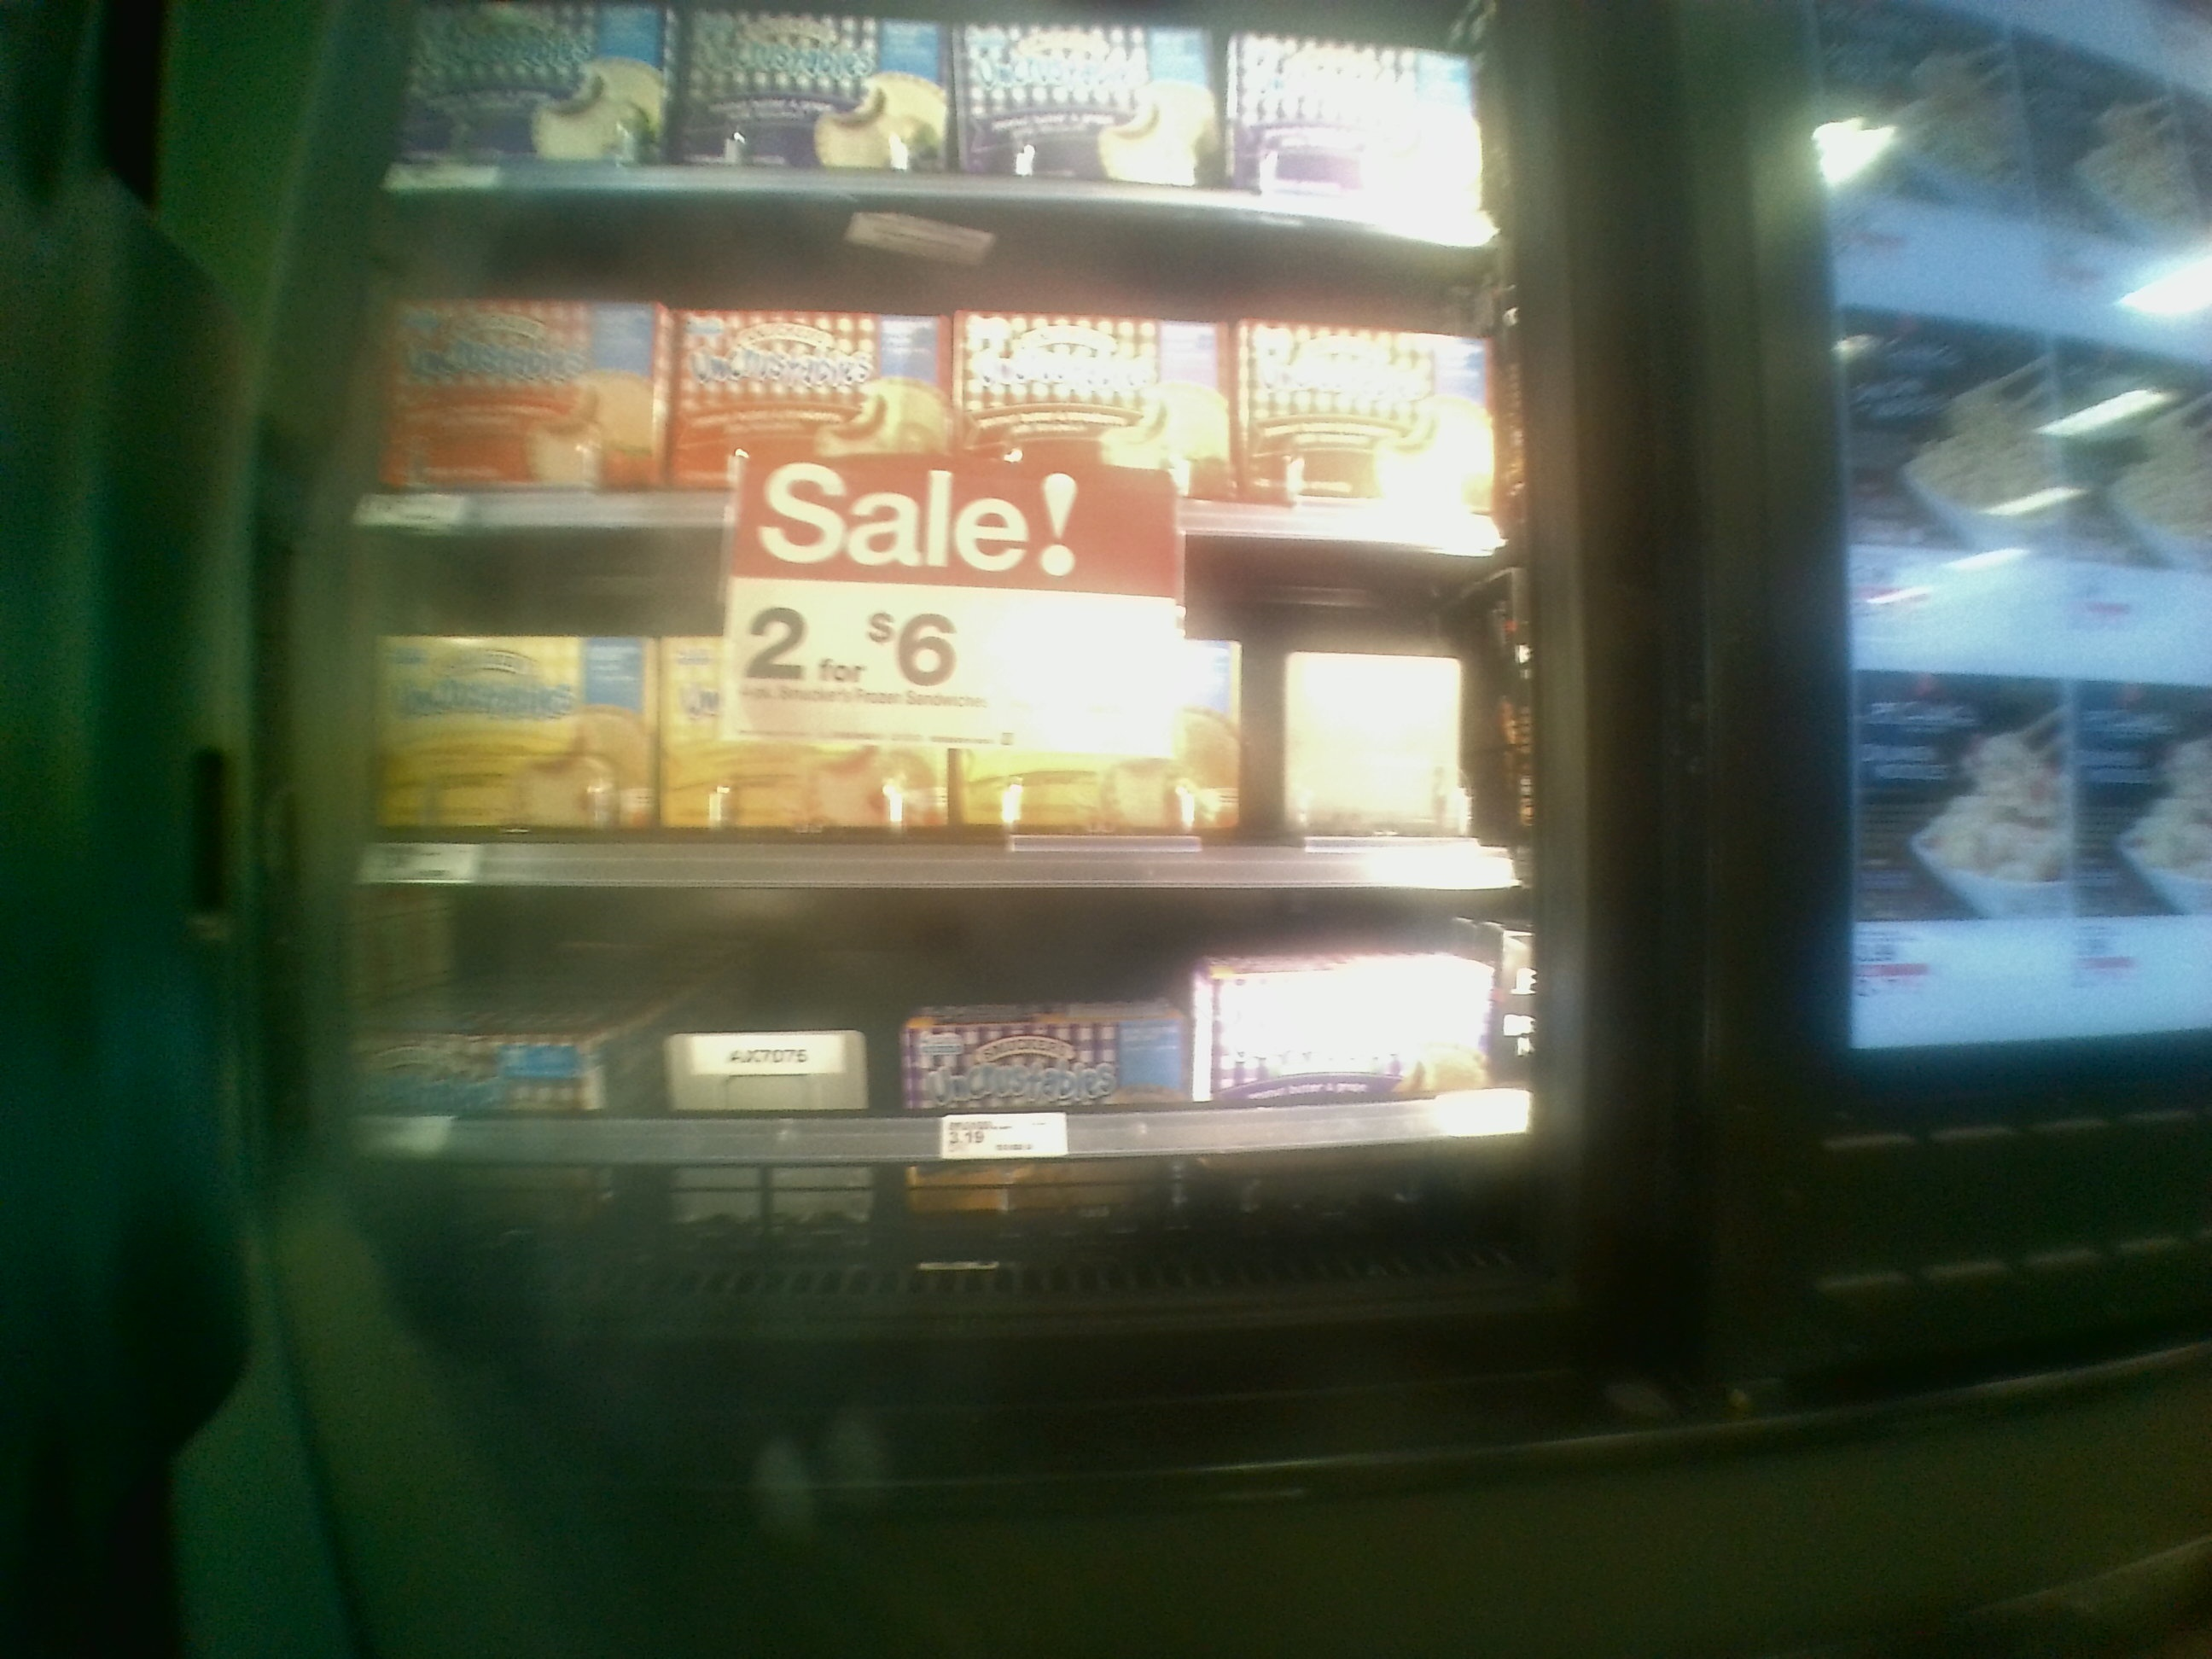shelf: (341, 885, 1554, 1317), (366, 190, 1515, 561), (355, 545, 1531, 890)
